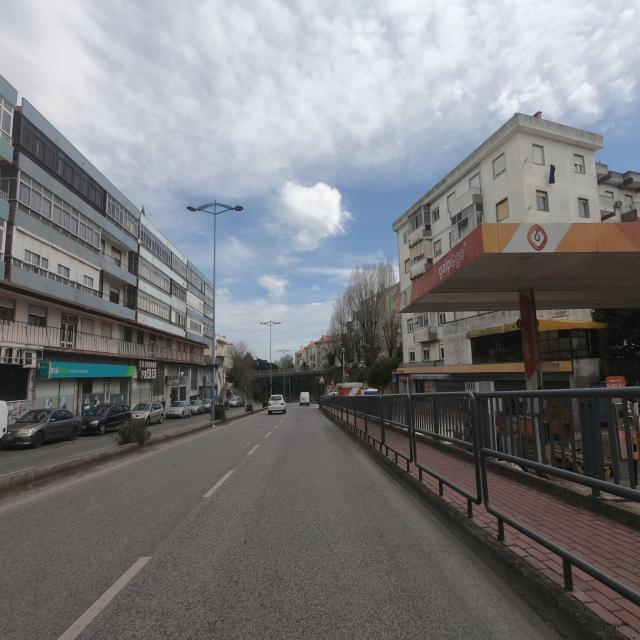car: (2, 406, 82, 450), (81, 402, 131, 436), (130, 401, 162, 427), (166, 400, 192, 419), (267, 394, 286, 415), (190, 400, 204, 416), (154, 400, 166, 418), (299, 392, 311, 406), (202, 398, 212, 412), (228, 397, 239, 408)
